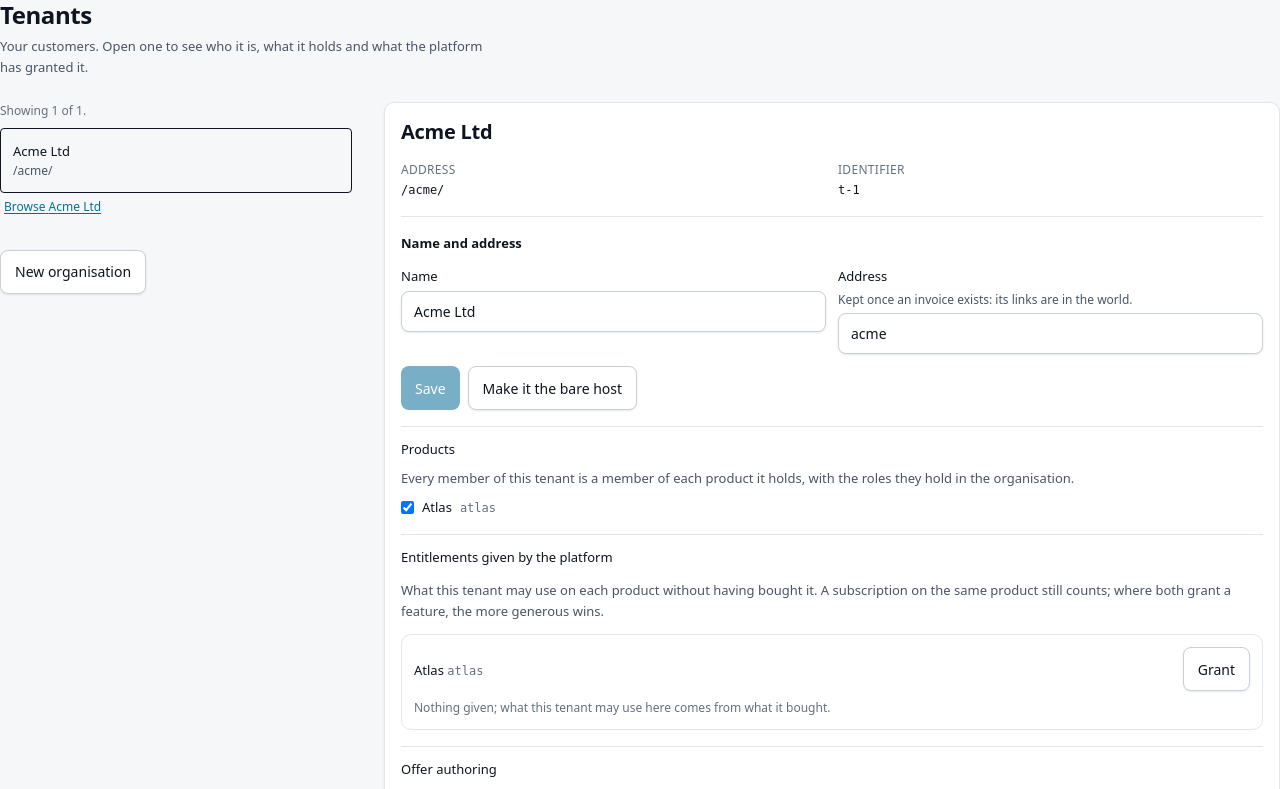
Test: the entitlement the platform gives › sends a trial when the platform says the people may use the product
The width and height of the screenshot is (1280, 789).
Step 1. Click the button "Grant" → x=1216, y=669, box [1183,647,1250,691]
(page scrolled)
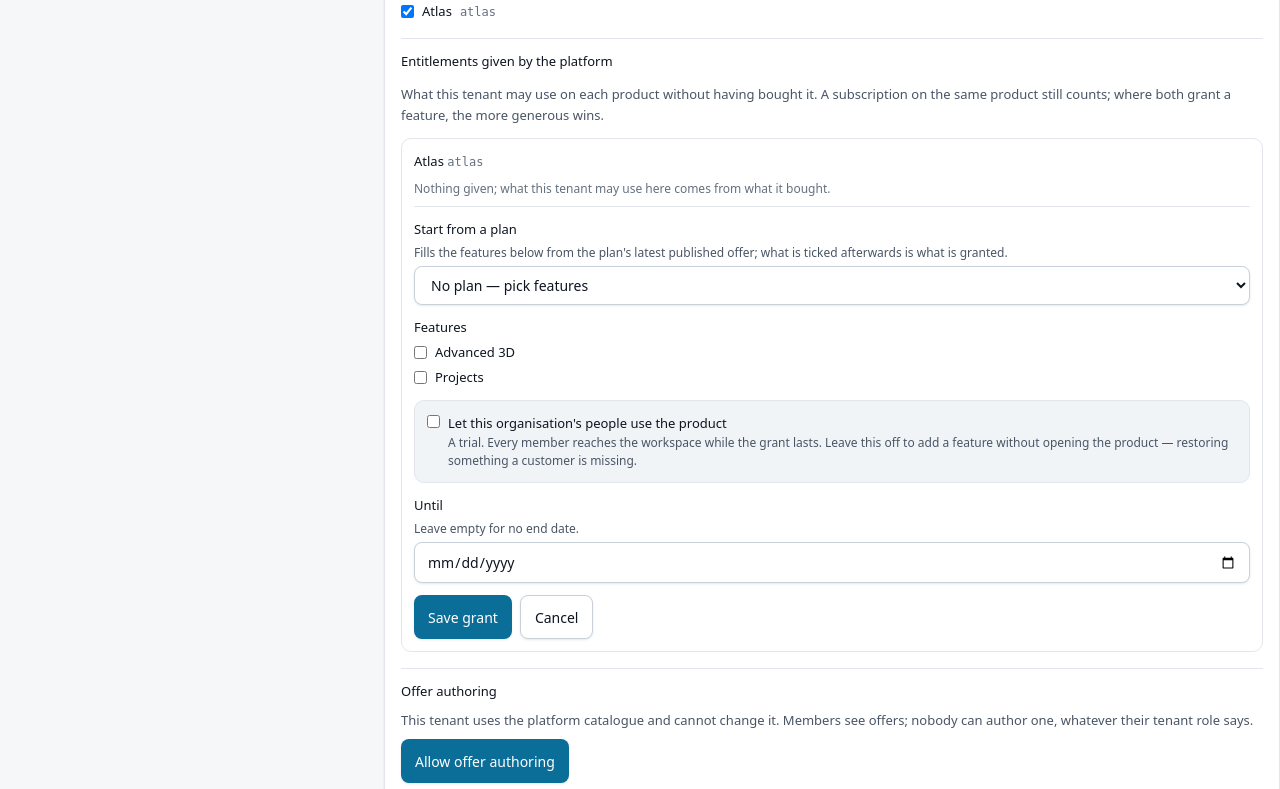
Check: the checkbox with test id "grant-covers-atlas" is shown
Step 2. Click the checkbox with test id "grant-covers-atlas" → x=434, y=422, box [427,415,440,428]
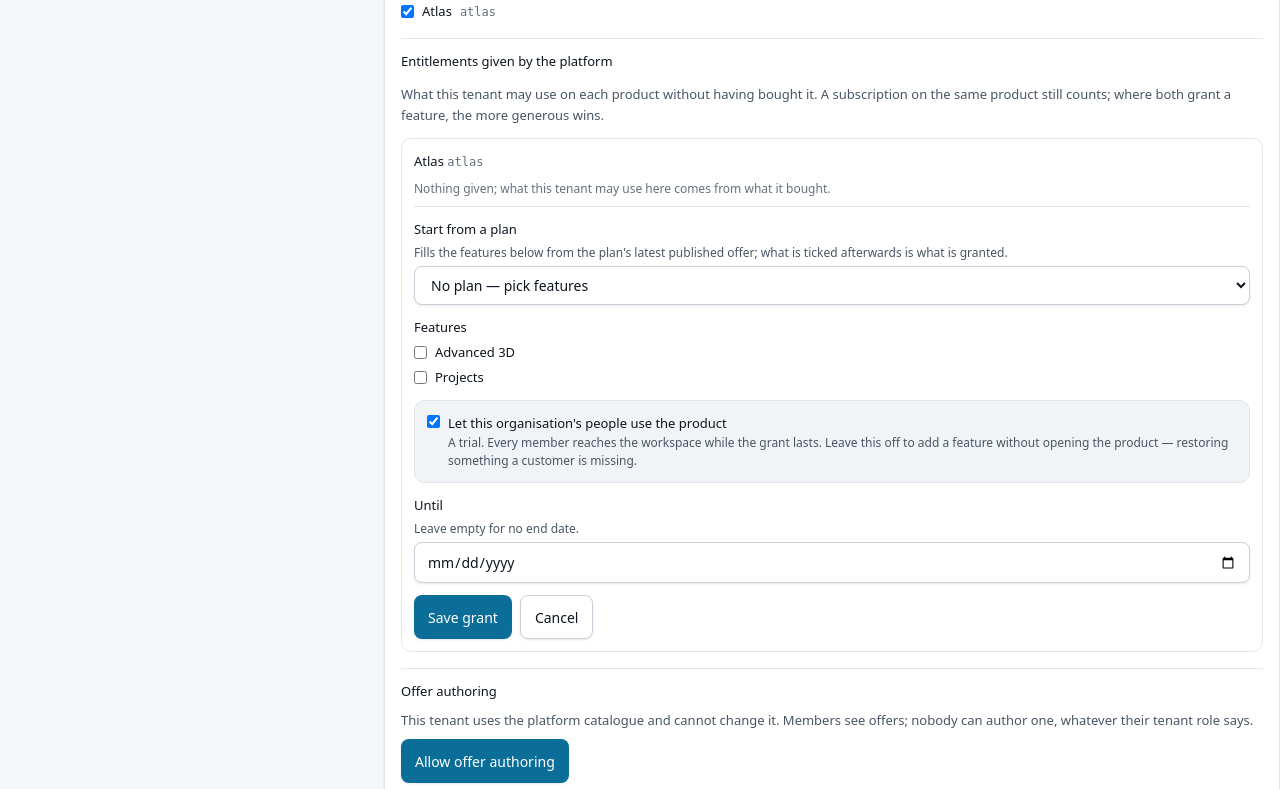
Step 3. Click the checkbox labelled "Projects" → x=420, y=378, box [414,371,427,384]
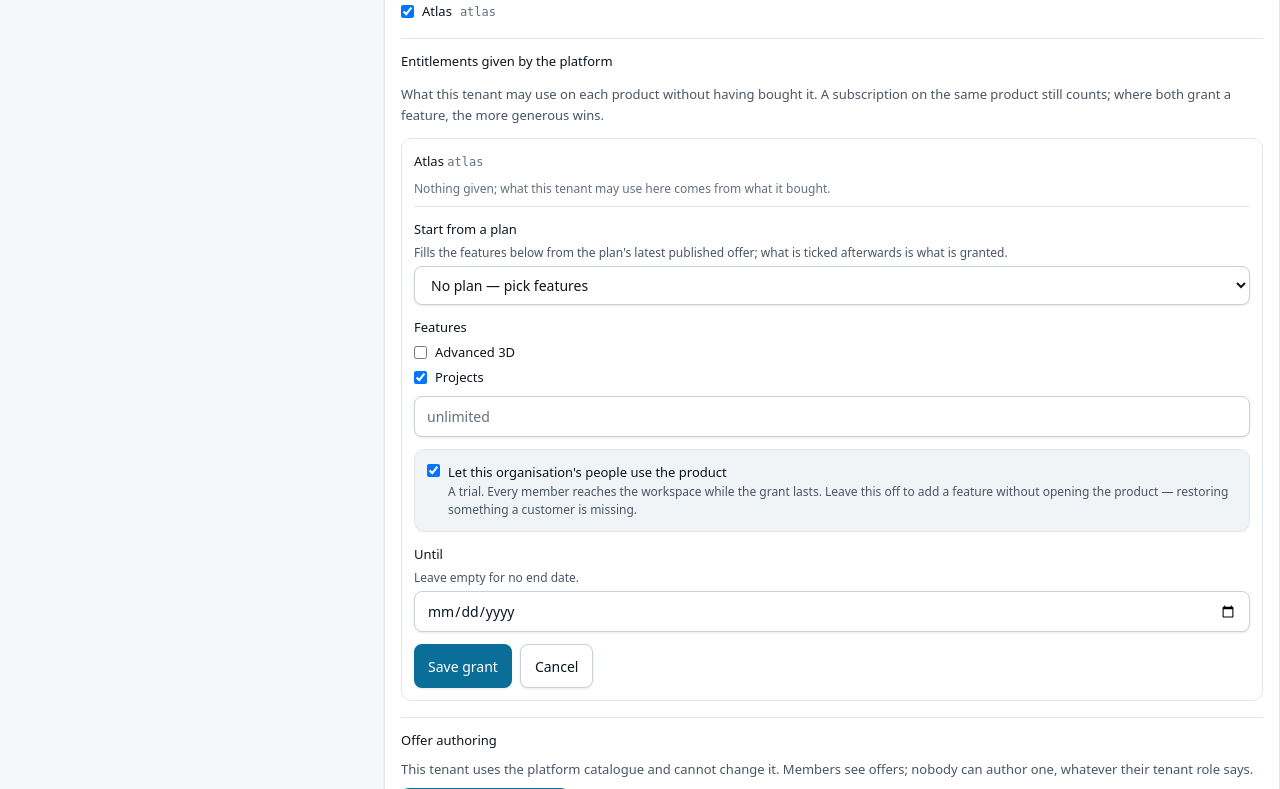
Step 4. Click the button "Save grant" → x=463, y=666, box [414,644,512,688]
(page scrolled)
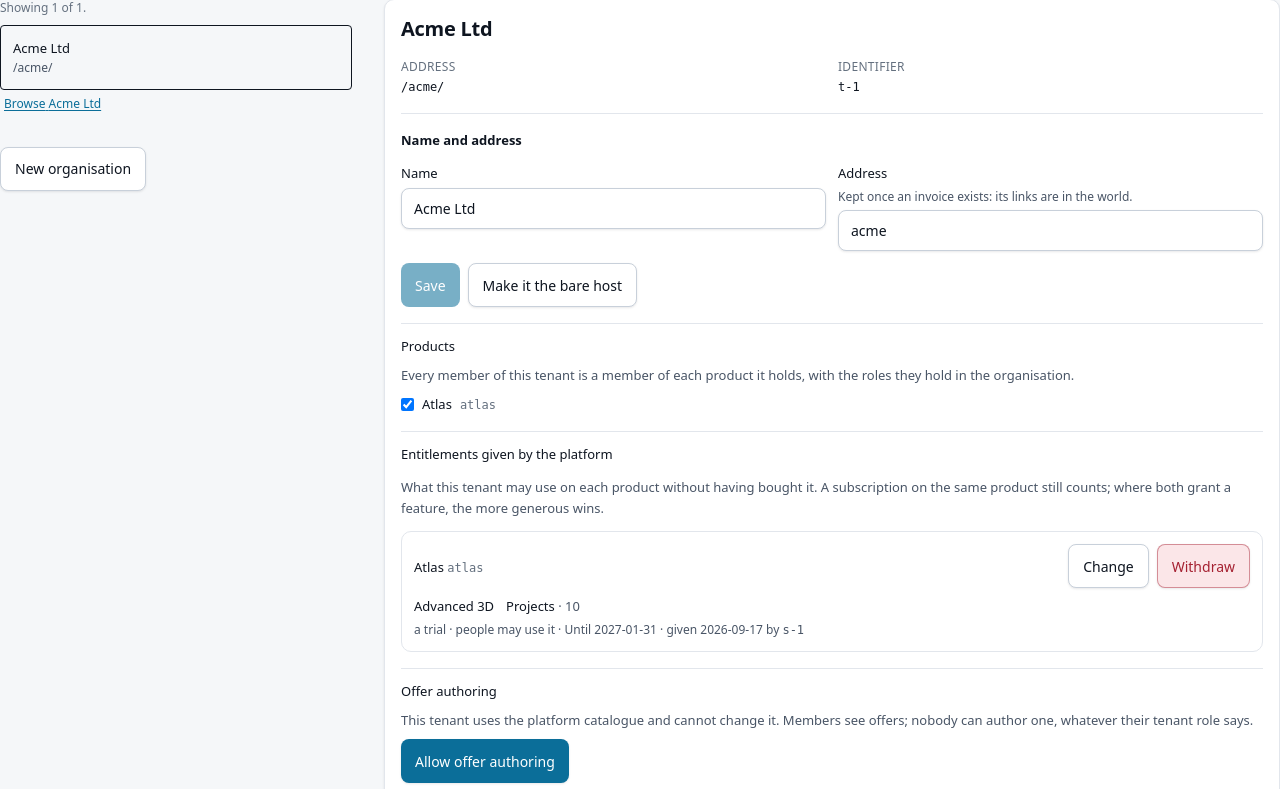
Check: the text with test id "grant-kind-atlas" shows "people may use it", box [414,621,555,638]
